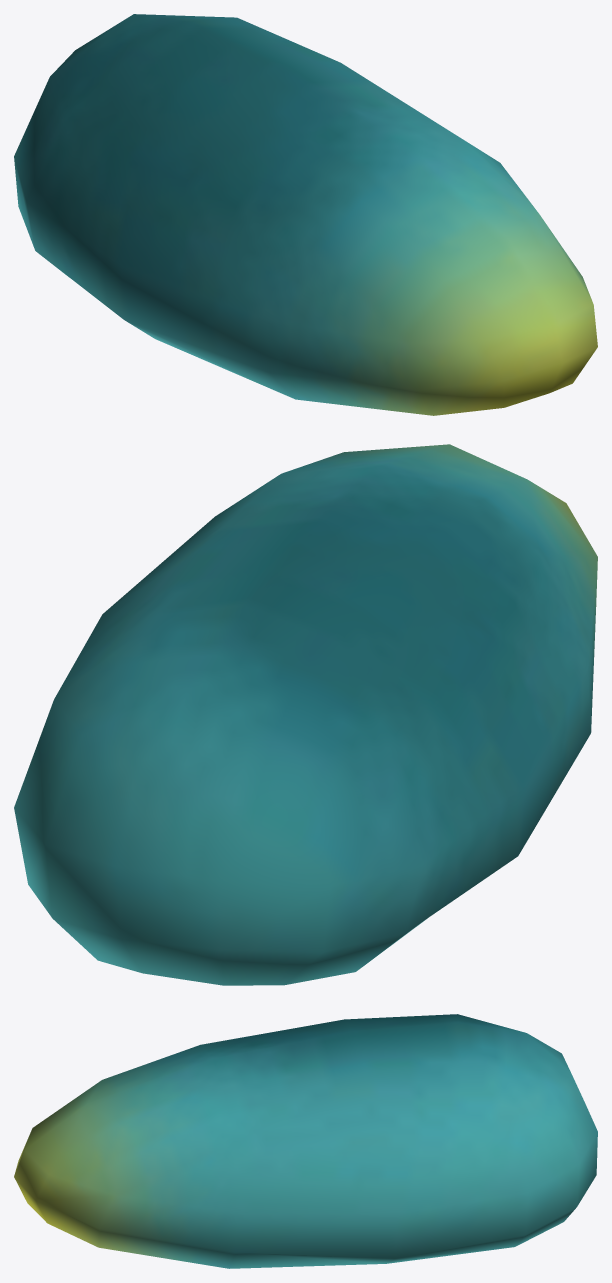
Rendered from chaoRFoot.obj.
3 views of the same model, one above another, from view 1: azimuth 30°, elevation 25°; view 2: azimuth 150°, elevation 25°; view 3: azimuth 270°, elevation 25° (orthographic). The views are drawn at different scales.
Parts seen in each view (by area): view 1: chd_b_M.006; view 2: chd_b_M.006; view 3: chd_b_M.006.
Boxes of the visible parts, x1,y1,x2,y2 form: chd_b_M.006: (14,14,597,415); chd_b_M.006: (14,444,597,985); chd_b_M.006: (14,1014,597,1268).
Size of the model in its own units: 2.58 by 1.74 by 4.86.
1 material, 1 textured.
